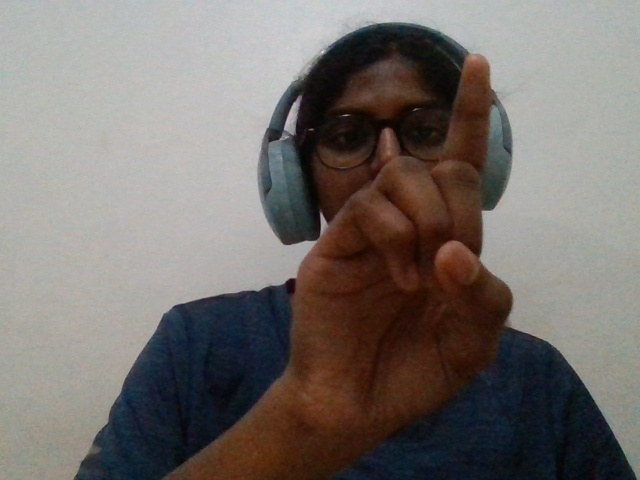D: (249, 26, 544, 476)
